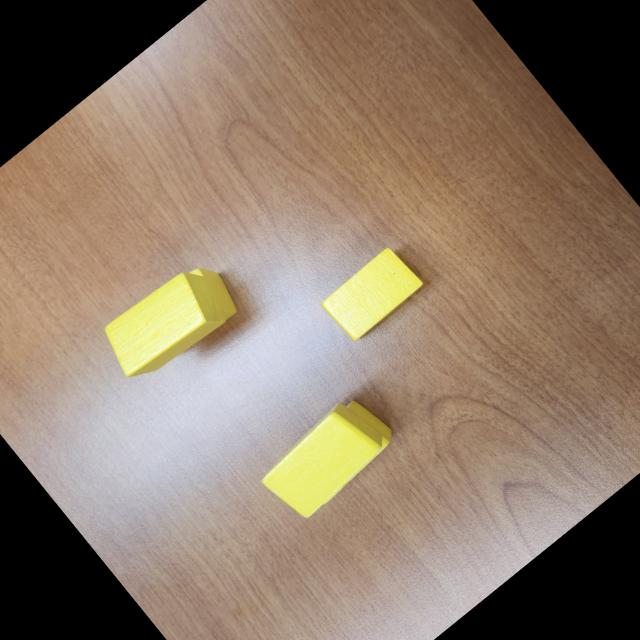yellow: (92, 257, 235, 393), (252, 392, 394, 526), (282, 392, 402, 507), (136, 256, 248, 363), (316, 242, 426, 346)
